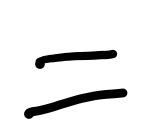eqv: (25, 50, 127, 119)
